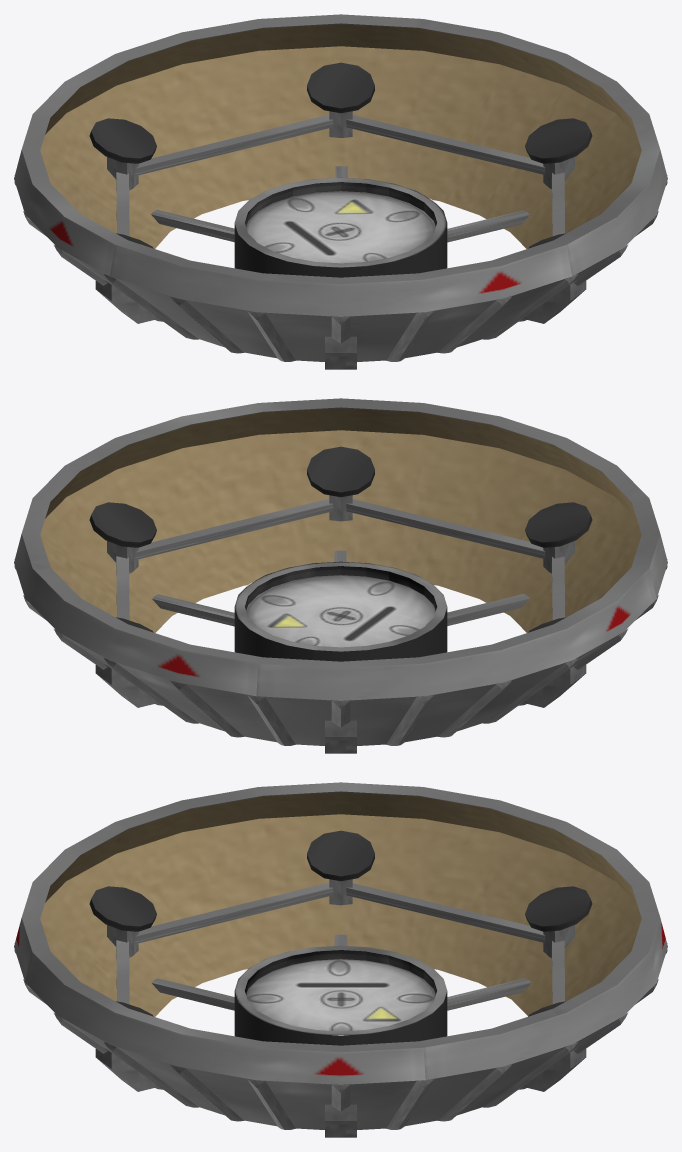
The picture shows the model from 3 angles, top to bottom: view 1: azimuth 30°, elevation 25°; view 2: azimuth 150°, elevation 25°; view 3: azimuth 270°, elevation 25°; orthographic projection.
Visible parts, largest first — view 1: Adapter1812, Cylinder042, Box055, Box058, Cylinder034, Cylinder033, Cylinder023, Box075, Box023, Box133, Box131, Box132 (+10 smaller); view 2: Adapter1812, Cylinder042, Box025, Box046, Cylinder030, Cylinder031, Cylinder023, Box074, Box023, Box135, Box133, Box134 (+10 smaller); view 3: Adapter1812, Cylinder042, Box049, Box052, Cylinder032, Cylinder031, Cylinder033, Box075, Box074, Box131, Box135, Box130 (+10 smaller).
Part boxes in pixels (box(x1,y1,x2,y2)): Adapter1812: box(14, 14, 667, 361); Cylinder042: box(234, 177, 447, 277); Box055: box(135, 114, 333, 175); Box058: box(346, 115, 545, 174); Cylinder034: box(307, 62, 374, 113); Cylinder033: box(89, 118, 156, 163); Cylinder023: box(525, 118, 592, 163); Box075: box(151, 209, 234, 242); Box023: box(447, 210, 529, 242); Box133: box(95, 280, 158, 323); Box131: box(523, 280, 586, 323); Box132: box(325, 336, 356, 369); Adapter1812: box(14, 398, 667, 745); Cylinder042: box(234, 561, 447, 661); Box025: box(135, 498, 333, 559); Box046: box(346, 499, 545, 558); Cylinder030: box(307, 446, 374, 497); Cylinder031: box(525, 502, 592, 547); Cylinder023: box(89, 502, 156, 547); Box074: box(447, 594, 529, 625); Box023: box(152, 594, 234, 626); Box135: box(95, 664, 158, 707); Box133: box(523, 664, 586, 707); Box134: box(325, 720, 356, 753); Adapter1812: box(14, 782, 667, 1129); Cylinder042: box(234, 945, 447, 1045); Box049: box(135, 882, 333, 943); Box052: box(346, 883, 545, 942); Cylinder032: box(307, 830, 374, 881); Cylinder031: box(89, 886, 156, 931); Cylinder033: box(525, 886, 592, 931); Box075: box(447, 978, 531, 1010); Box074: box(151, 978, 234, 1010); Box131: box(95, 1048, 158, 1091); Box135: box(523, 1048, 586, 1091); Box130: box(325, 1104, 356, 1137).
Size of what is drawn, in the model's own units: 1.95 by 1.95 by 0.4168.
1 material, 1 textured.
